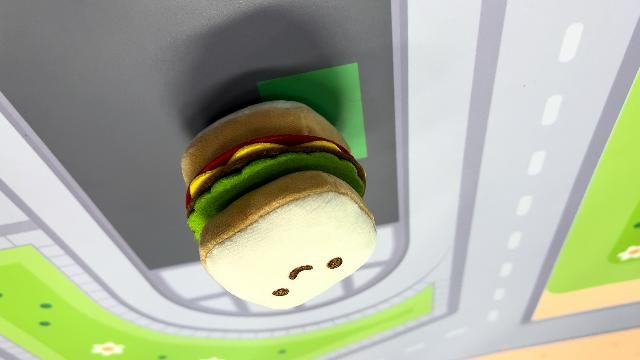sandwich: (178, 96, 380, 310)
